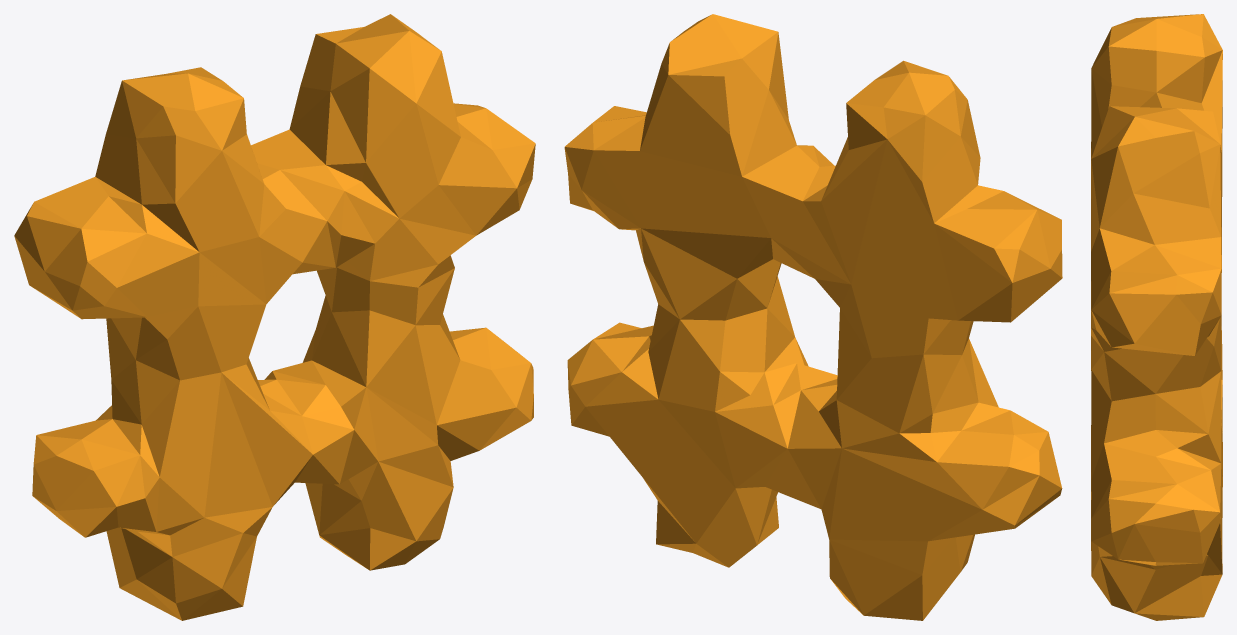
The model's file is SM_Icon_Number_Hash_01.fbx.
The picture shows the model from 3 angles, left to right: view 1: azimuth 30°, elevation 25°; view 2: azimuth 150°, elevation 25°; view 3: azimuth 270°, elevation 25°; orthographic projection. The views are drawn at different scales.
Parts seen in each view (by area): view 1: SM_Icon_Number_Hash_01; view 2: SM_Icon_Number_Hash_01; view 3: SM_Icon_Number_Hash_01.
Part boxes in pixels (<box>): SM_Icon_Number_Hash_01: <box>14,14,535,620</box>; SM_Icon_Number_Hash_01: <box>564,14,1062,620</box>; SM_Icon_Number_Hash_01: <box>1091,14,1222,620</box>.
Bounding box in the file's own units: 42.09 × 45.1 × 10.58.
